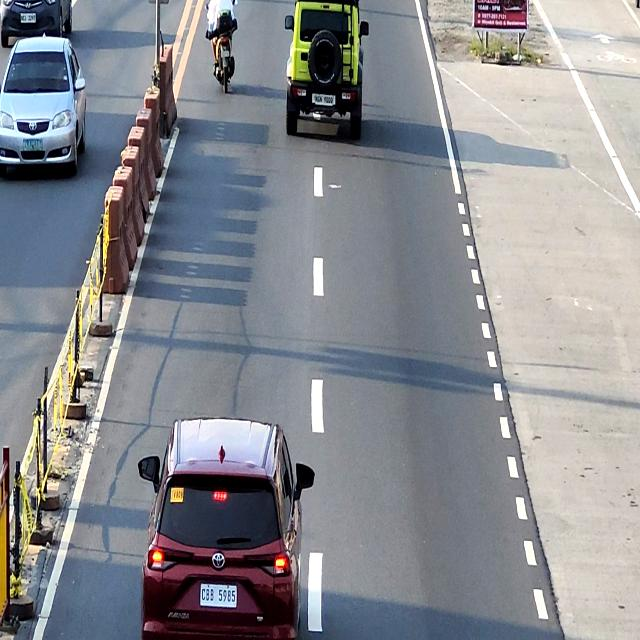Car: (138, 416, 315, 640), (0, 38, 87, 180), (284, 0, 368, 135), (0, 0, 73, 42)
License-Plate: (200, 585, 237, 608), (23, 138, 43, 151), (315, 94, 333, 105), (20, 13, 37, 23), (220, 50, 230, 58)
Motorcycle: (206, 0, 238, 93)
